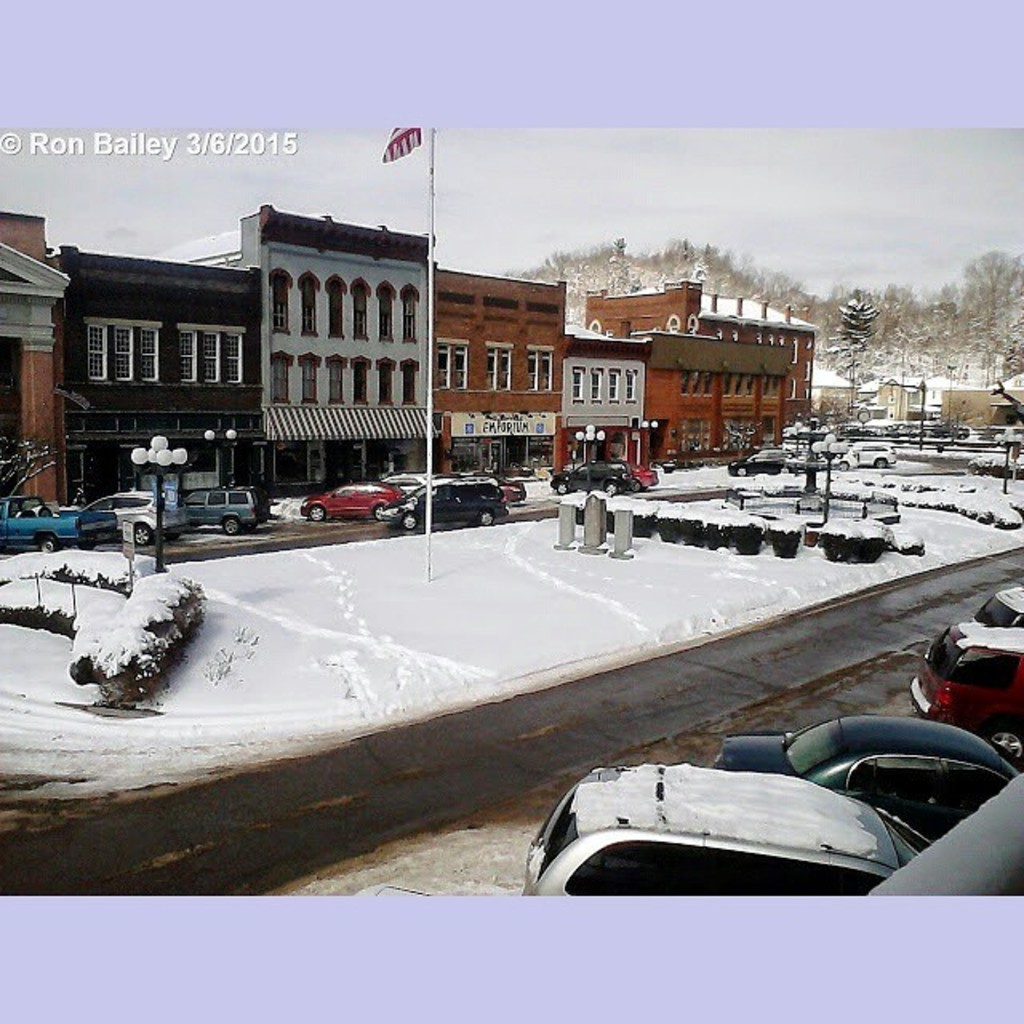Car: (531, 772, 912, 896), (716, 711, 1020, 838), (908, 612, 1022, 739), (379, 467, 502, 532), (304, 473, 400, 524), (89, 489, 167, 540), (187, 486, 270, 531), (551, 457, 636, 500), (979, 576, 1022, 627), (839, 438, 900, 465), (731, 446, 775, 467)
